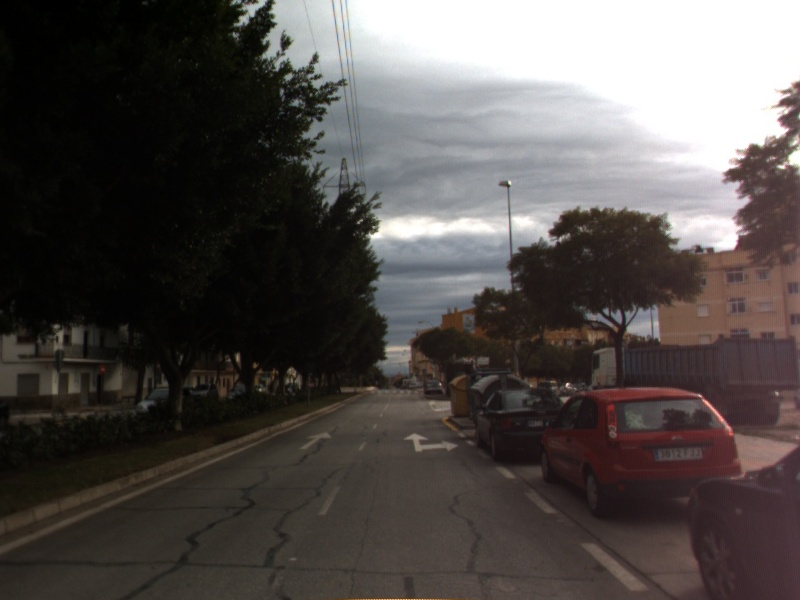STRAIGHT: (297, 429, 334, 452)
STRAIGHT_RIGHT: (401, 431, 461, 454)
